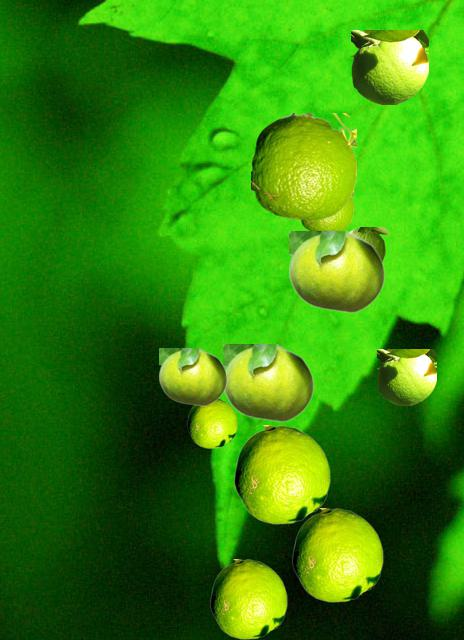dalandan: (251, 113, 355, 219), (234, 425, 329, 523), (292, 508, 382, 601), (289, 231, 384, 312), (223, 344, 313, 421), (210, 559, 286, 638), (351, 30, 427, 103), (159, 348, 226, 405), (377, 349, 435, 404), (187, 398, 236, 447), (300, 196, 352, 230), (349, 227, 388, 261)
